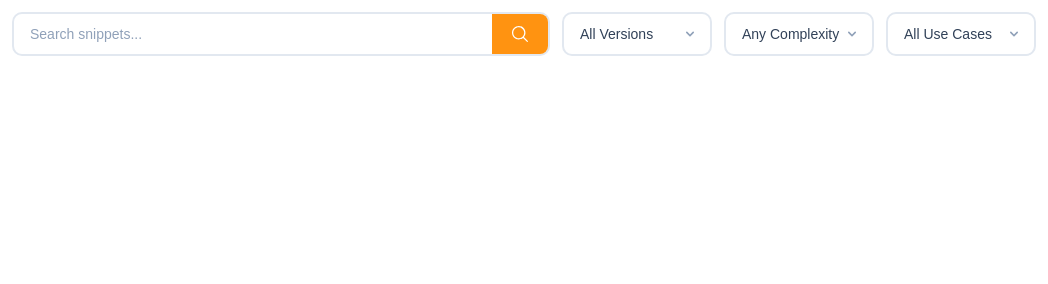
Search › opens complexity dropdown and shows options on click
What coordinates should you click on to do the following:
click the button "Any Complexity"
I would click on:
 (799, 34)
Its box is [724,12,874,56].
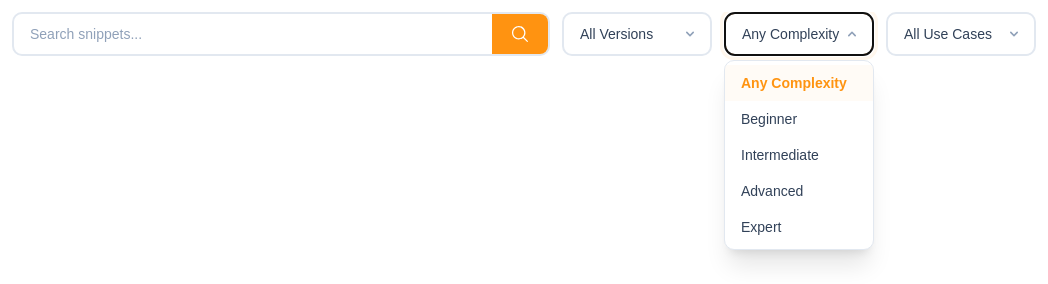
Expected: the list item "Beginner" is shown, [741,111,797,127]
Expected: the list item "Intermediate" is shown, [741,147,819,163]
Expected: the list item "Advanced" is shown, [741,183,803,199]
